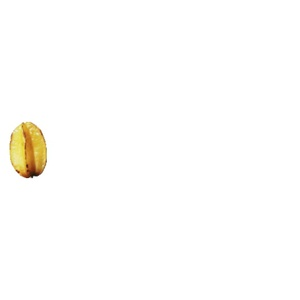carambola: (10, 122, 47, 179)
